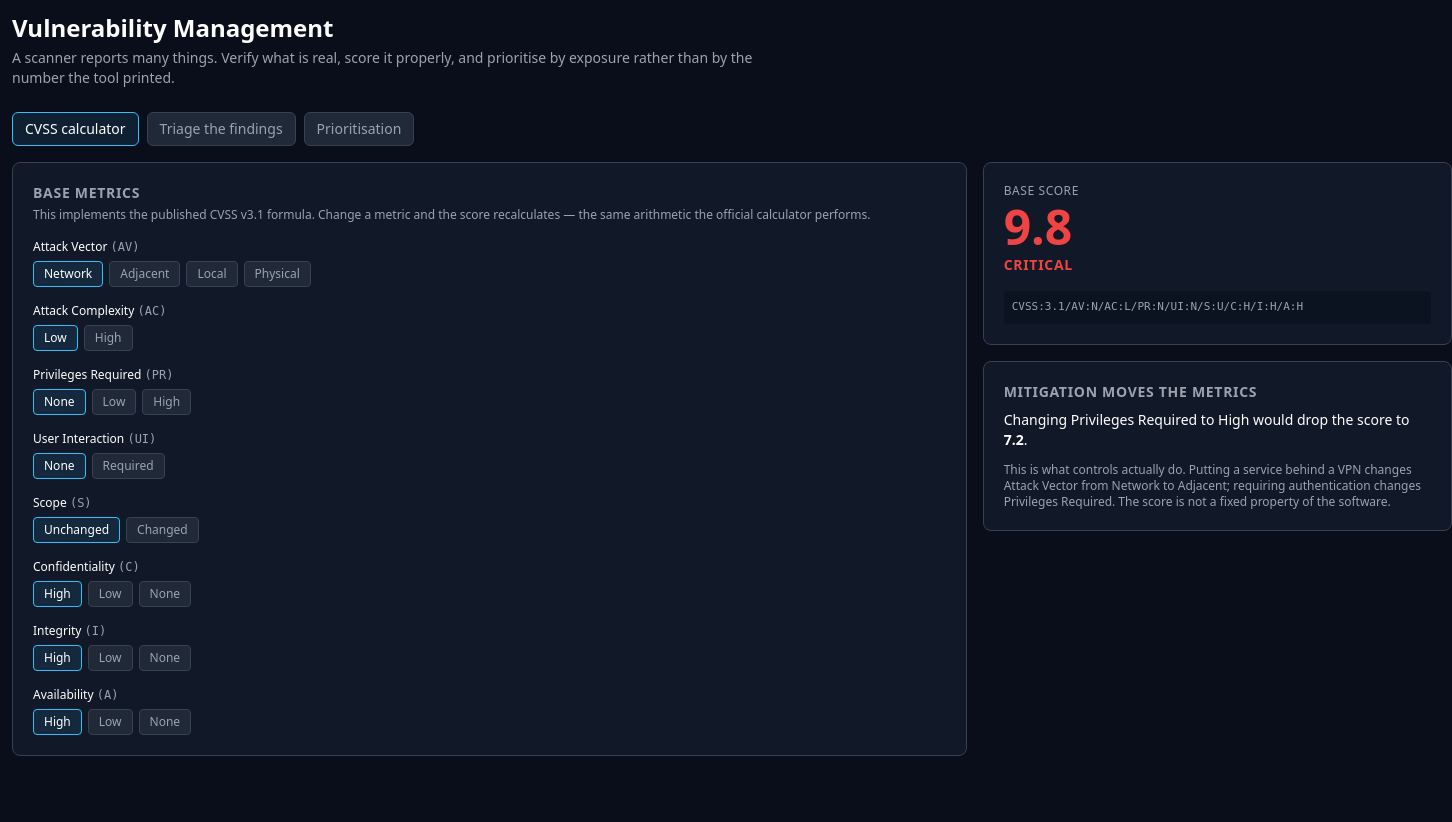
Test: VulnManagementView › recalculates when a metric changes
Click the button with aria-label "Attack Vector: Physical": (277, 274) [244, 261, 311, 287]
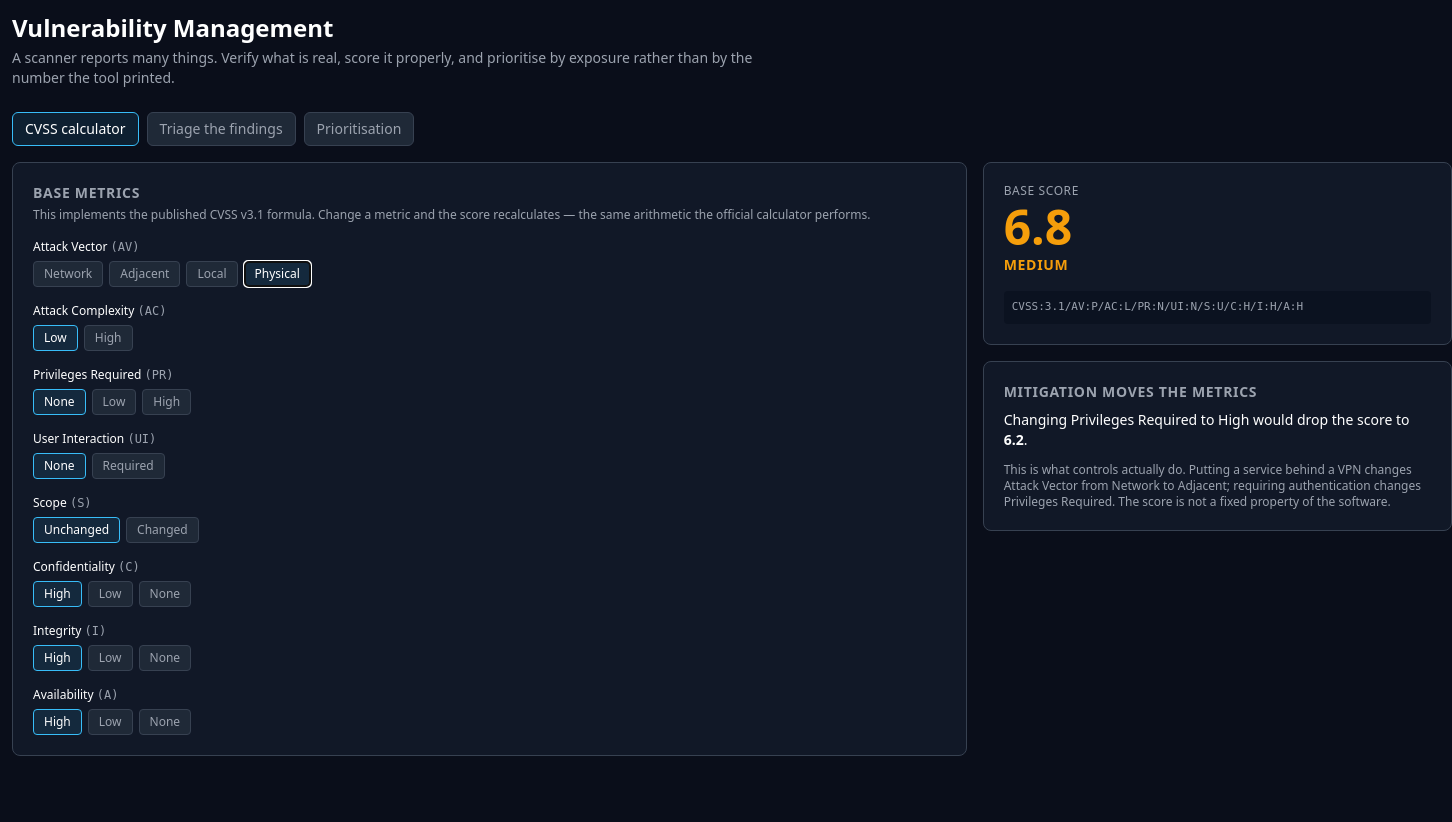
Result: the text with test id "cvss-score" no longer shows "9.8" at [1004, 194, 1072, 259]
